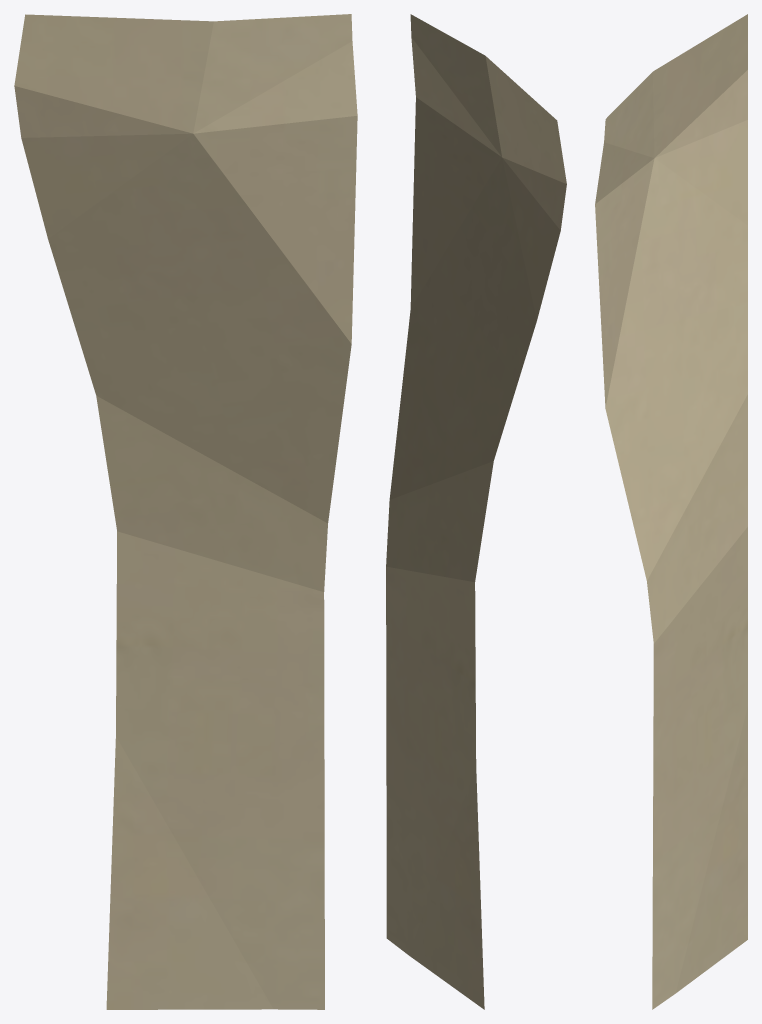
3 views of the same model, side by side, from view 1: azimuth 30°, elevation 25°; view 2: azimuth 150°, elevation 25°; view 3: azimuth 270°, elevation 25° (orthographic). The views are drawn at different scales.
Size of the model in its own units: 0.2211 by 0.8373 by 0.1303.
1 material, 1 textured.
